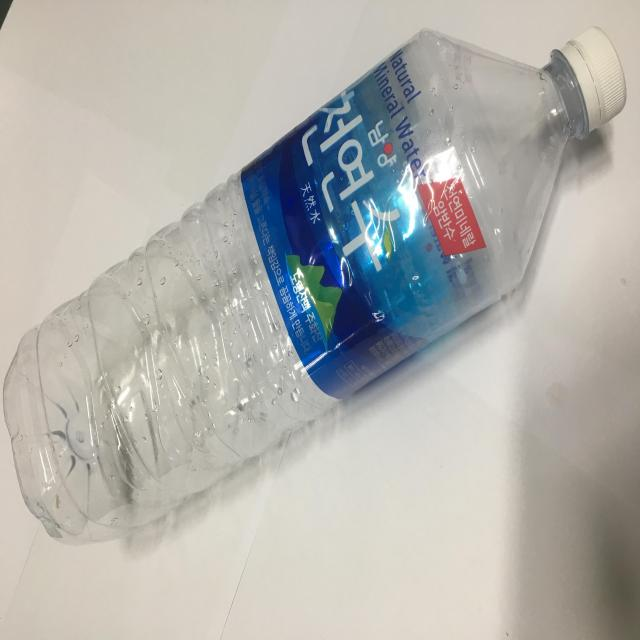bottle: (5, 5, 640, 539)
